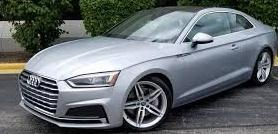Cars: (21, 10, 277, 131)
